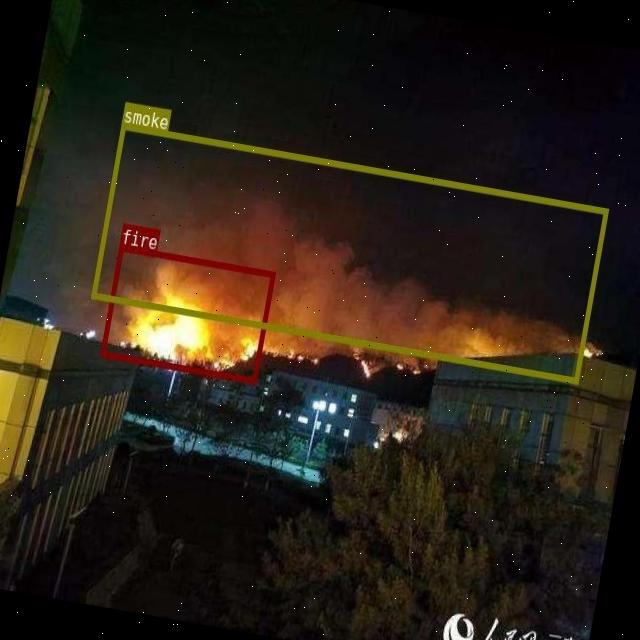fire: (100, 244, 274, 384)
smoke: (90, 122, 608, 382)
